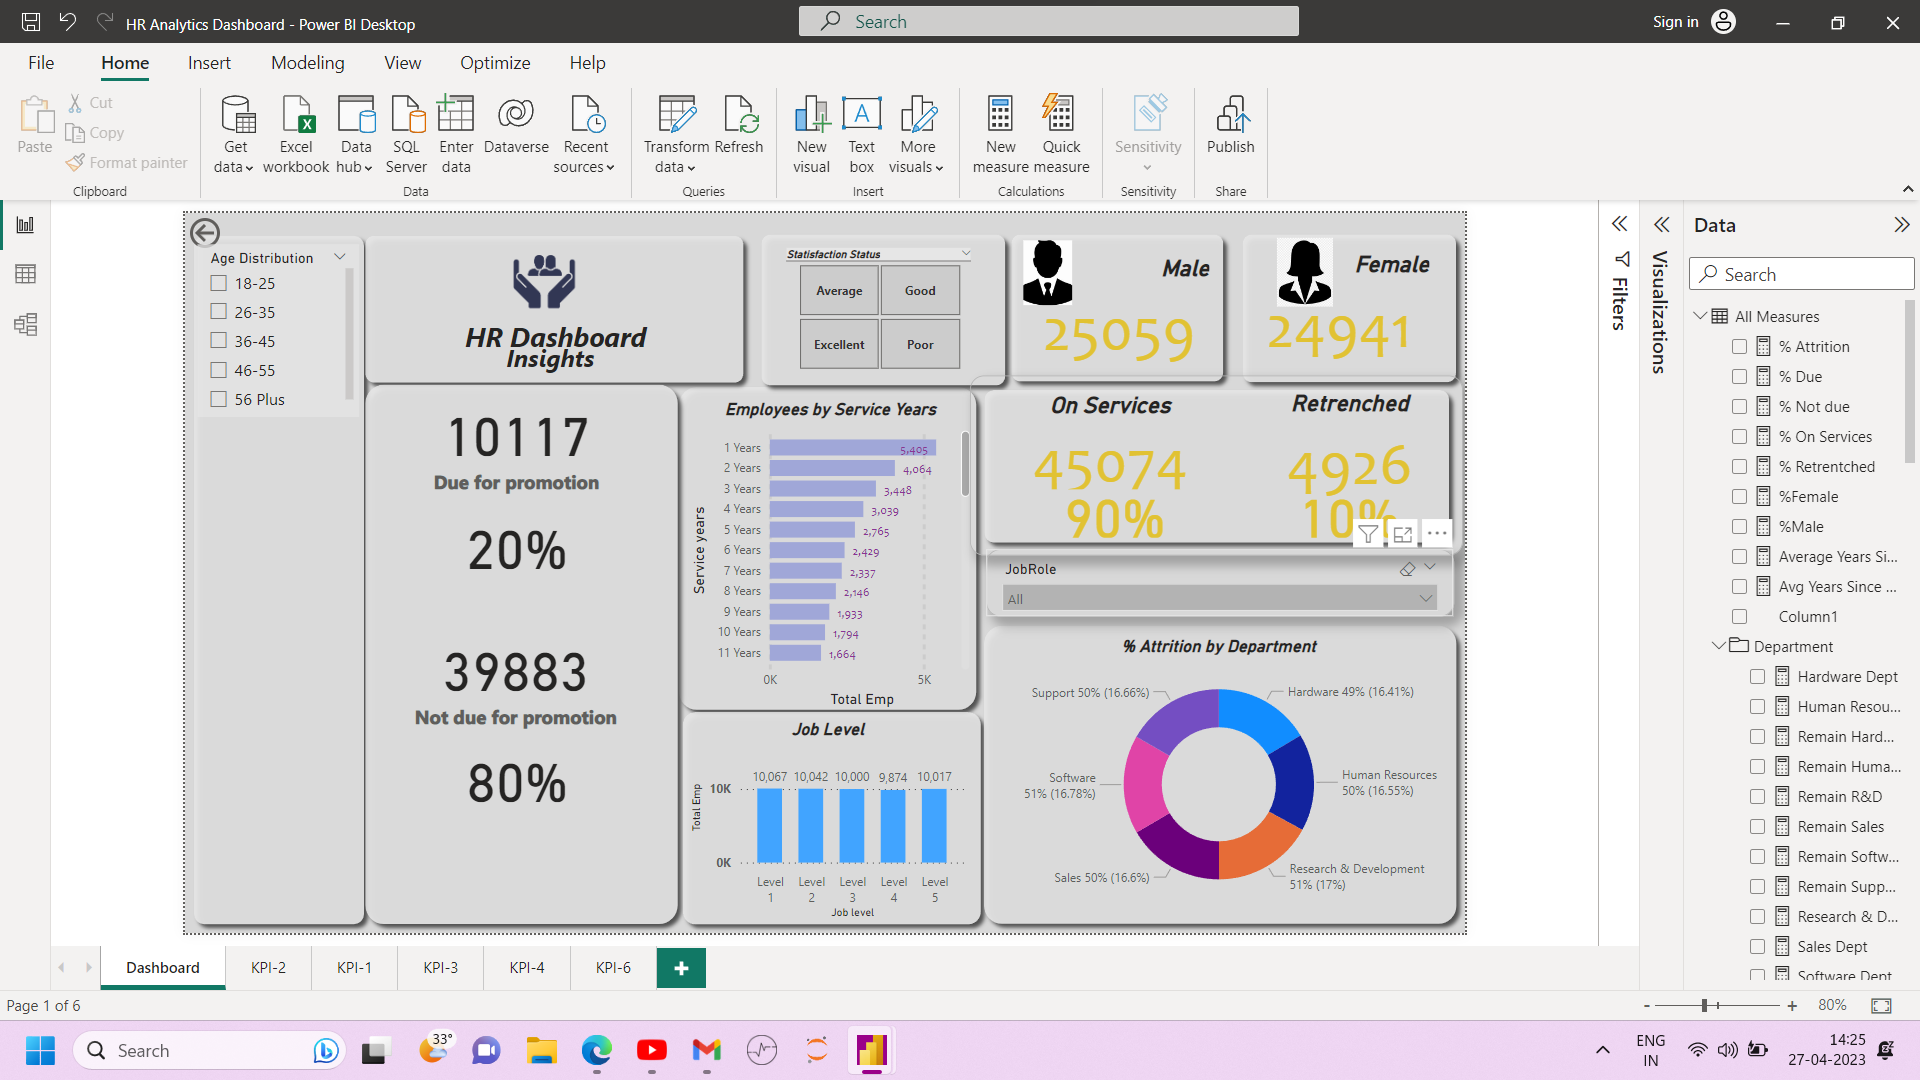

The dashboard page shown, as its layout file describes it:
{"tool":"powerbi","page":{"name":"Dashboard","canvas":[1280,720],"ordinal":0},"visuals":[{"type":"shape","box":[485.3,165,315.4,341.1],"z":0},{"type":"shape","box":[0,13.3,188.3,706.7],"z":1000},{"type":"shape","box":[171.1,13.4,396.1,165],"z":2000},{"type":"shape","box":[817.8,12.2,229.8,165],"z":3000},{"type":"shape","box":[567.2,12.2,261.6,168.7],"z":4000},{"type":"image","box":[302.9,29.6,114,88.1],"z":4000,"group":"g1"},{"type":"textbox","box":[251.8,99.2,238.6,48.7],"z":4000,"group":"g2"},{"type":"group","id":"g1","title":"Group 3","box":[251.8,29.6,238.6,141.4],"z":5000},{"type":"textbox","box":[285.4,123.5,160.6,47.3],"z":5000,"group":"g2"},{"type":"shape","box":[1048.6,12.9,231.4,165.7],"z":6000},{"type":"card","title":"Female","fields":{"Values":["All Measures.Female"]},"box":[1058.6,37.9,190.7,113.7],"z":7000},{"type":"shape","box":[171.1,162.6,330.1,557.4],"z":8000},{"type":"image","box":[828.8,22,67.2,74.6],"z":9000},{"type":"group","id":"g2","title":"Group 2","box":[251.8,99.2,238.6,71.9],"z":9000,"group":"g1"},{"type":"image","box":[1048.6,20,142.9,78.6],"z":10000},{"type":"card","fields":{"Values":["All Measures.Due for promotion"]},"box":[187,162.6,288.5,134.5],"z":11000},{"type":"card","fields":{"Values":["All Measures.Not due for promotion"]},"box":[200.5,397.3,261.6,134.5],"z":12000},{"type":"card","fields":{"Values":["All Measures.% Due"]},"box":[245.7,282.4,171.1,96.6],"z":13000},{"type":"card","fields":{"Values":["All Measures.% Not due"]},"box":[245.7,514.6,172.4,95.3],"z":14000},{"type":"shape","box":[488.8,490,316.2,230],"z":15000},{"type":"barChart","title":"Employees by Service Years","fields":{"Category":["Merge1.Service years"],"Y":["All Measures.Total Emp"]},"box":[501.2,185.8,288.5,312.9],"z":16000},{"type":"columnChart","title":"Job Level","fields":{"Category":["Merge1.Job level"],"Y":["All Measures.Total Emp"]},"box":[501.2,506.1,283.6,204.1],"z":17000},{"type":"shape","box":[785,162.5,492.5,180],"z":18000},{"type":"card","title":"Retrenched","fields":{"Values":["All Measures.Retrenched"]},"box":[1068.4,176,191.9,112.5],"z":19000},{"type":"card","title":"On Services","fields":{"Values":["All Measures.On services"]},"box":[800.7,178.5,248.1,102.7],"z":20000},{"type":"card","fields":{"Values":["All Measures.% On Services"]},"box":[859.4,268.9,141.8,61.1],"z":21000},{"type":"card","fields":{"Values":["All Measures.% Retrentched"]},"box":[1087.9,268.9,152.8,61.1],"z":22000},{"type":"card","title":"Male","fields":{"Values":["All Measures.Male"]},"box":[838.6,41.6,190.7,113.7],"z":23000},{"type":"shape","box":[790,403.8,490,316.2],"z":24000},{"type":"donutChart","title":"% Attrition by Department","fields":{"Y":["All Measures.% Attrition"],"Series":["Merge1.Department"]},"box":[806.2,422.5,455,278.8],"z":25000},{"type":"slicer","fields":{"Values":["Merge1.JobRole"]},"box":[800.7,336.2,468.2,67.2],"z":26000},{"type":"actionButton","box":[0,0,100,40],"z":27000},{"type":"slicer","fields":{"Values":["Merge1.Statisfaction Status"]},"box":[588.8,30,210,132.5],"z":28000},{"type":"slicer","fields":{"Values":["Merge1.Age Distribution"]},"box":[9.8,283.6,161.4,172.4],"z":29000}]}

Visuals, with their boxes on the page's 1280x720 design canvas (x1, y1, x2, y2). These are canvas units, not pixel positions in the 1920x1080 screenshot, which may show the page scaled, cropped or inside an application window:
shape: {"left": 485, "top": 165, "right": 801, "bottom": 506}
shape: {"left": 0, "top": 13, "right": 188, "bottom": 720}
shape: {"left": 171, "top": 13, "right": 567, "bottom": 178}
shape: {"left": 818, "top": 12, "right": 1048, "bottom": 177}
shape: {"left": 567, "top": 12, "right": 829, "bottom": 181}
image: {"left": 303, "top": 30, "right": 417, "bottom": 118}
textbox: {"left": 252, "top": 99, "right": 490, "bottom": 148}
"Group 3" group: {"left": 252, "top": 30, "right": 490, "bottom": 171}
textbox: {"left": 285, "top": 124, "right": 446, "bottom": 171}
shape: {"left": 1049, "top": 13, "right": 1280, "bottom": 179}
"Female" card: {"left": 1059, "top": 38, "right": 1249, "bottom": 152}
shape: {"left": 171, "top": 163, "right": 501, "bottom": 720}
image: {"left": 829, "top": 22, "right": 896, "bottom": 97}
"Group 2" group: {"left": 252, "top": 99, "right": 490, "bottom": 171}
image: {"left": 1049, "top": 20, "right": 1192, "bottom": 99}
card - All Measures.Due for promotion: {"left": 187, "top": 163, "right": 476, "bottom": 297}
card - All Measures.Not due for promotion: {"left": 200, "top": 397, "right": 462, "bottom": 532}
card - All Measures.% Due: {"left": 246, "top": 282, "right": 417, "bottom": 379}
card - All Measures.% Not due: {"left": 246, "top": 515, "right": 418, "bottom": 610}
shape: {"left": 489, "top": 490, "right": 805, "bottom": 720}
"Employees by Service Years" barChart: {"left": 501, "top": 186, "right": 790, "bottom": 499}
"Job Level" columnChart: {"left": 501, "top": 506, "right": 785, "bottom": 710}
shape: {"left": 785, "top": 162, "right": 1278, "bottom": 342}
"Retrenched" card: {"left": 1068, "top": 176, "right": 1260, "bottom": 288}
"On Services" card: {"left": 801, "top": 178, "right": 1049, "bottom": 281}
card - All Measures.% On Services: {"left": 859, "top": 269, "right": 1001, "bottom": 330}
card - All Measures.% Retrentched: {"left": 1088, "top": 269, "right": 1241, "bottom": 330}
"Male" card: {"left": 839, "top": 42, "right": 1029, "bottom": 155}
shape: {"left": 790, "top": 404, "right": 1280, "bottom": 720}
"% Attrition by Department" donutChart: {"left": 806, "top": 422, "right": 1261, "bottom": 701}
slicer - Merge1.JobRole: {"left": 801, "top": 336, "right": 1269, "bottom": 403}
actionButton: {"left": 0, "top": 0, "right": 100, "bottom": 40}
slicer - Merge1.Statisfaction Status: {"left": 589, "top": 30, "right": 799, "bottom": 162}
slicer - Merge1.Age Distribution: {"left": 10, "top": 284, "right": 171, "bottom": 456}
